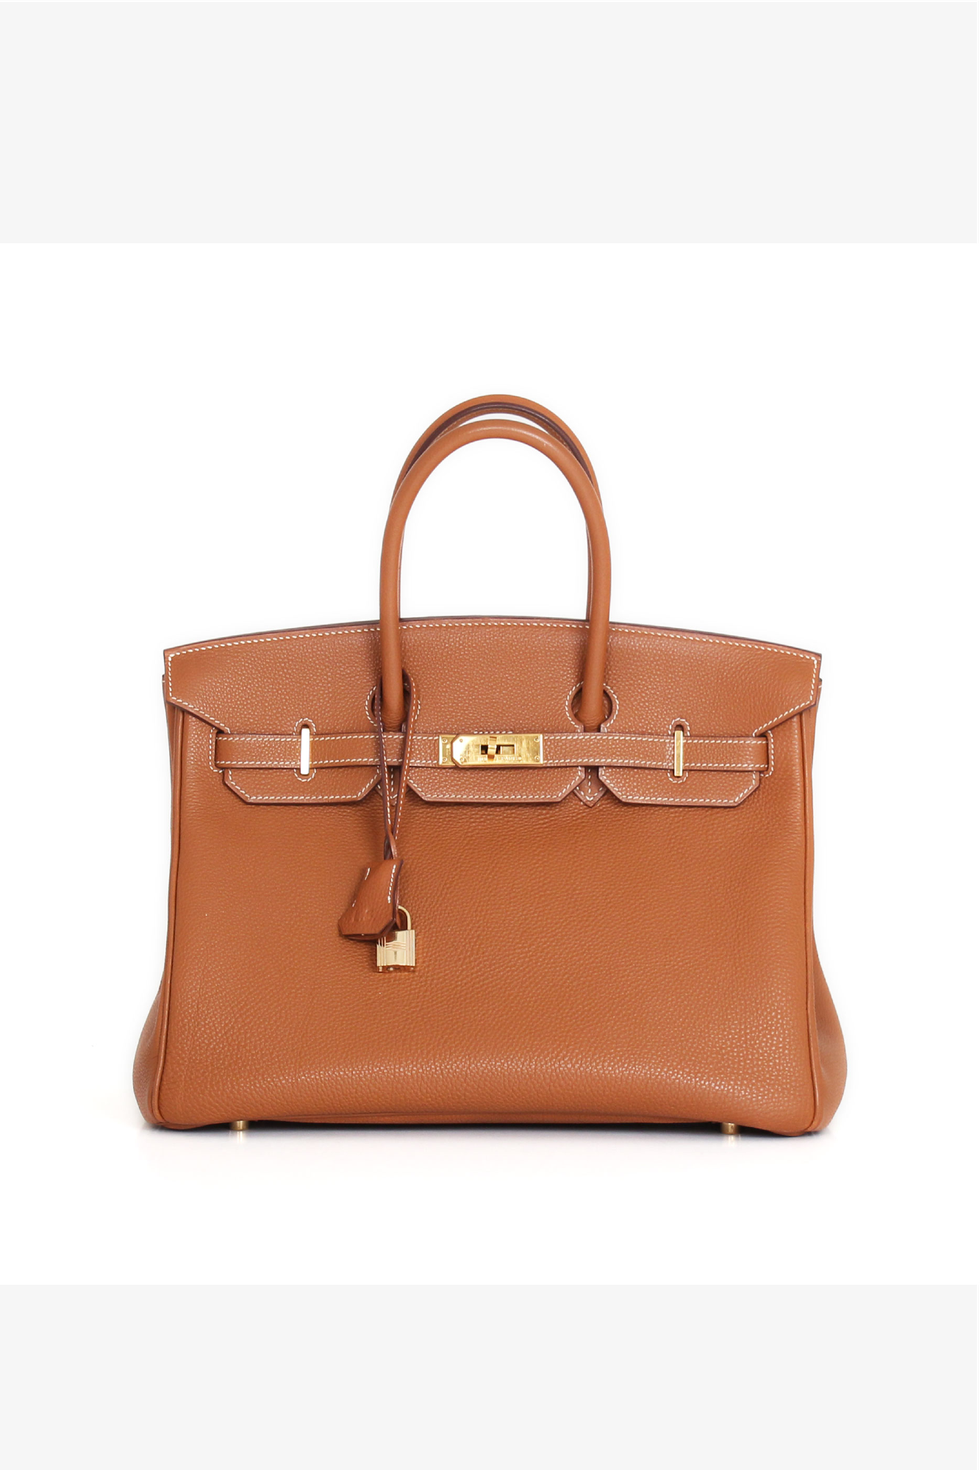cartera: (122, 374, 875, 1145)
lona: (132, 605, 857, 1140)
